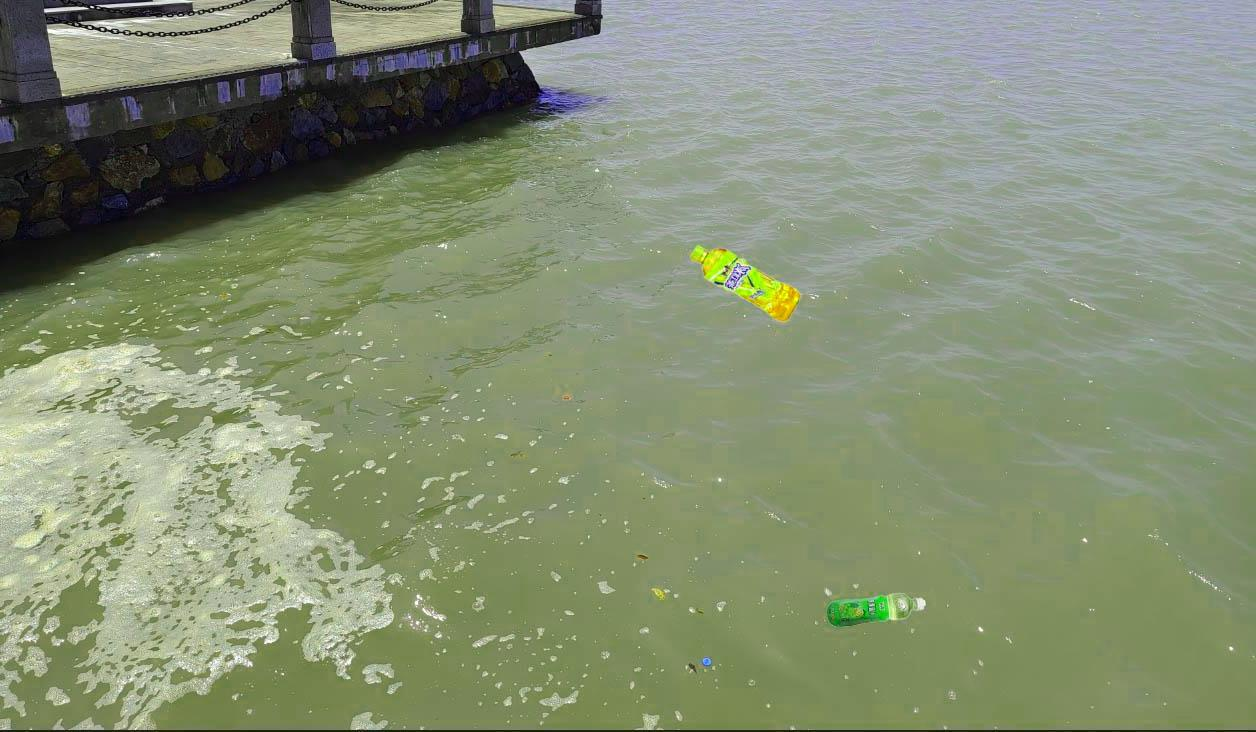Plastic: (690, 235, 803, 324), (824, 590, 927, 631)
